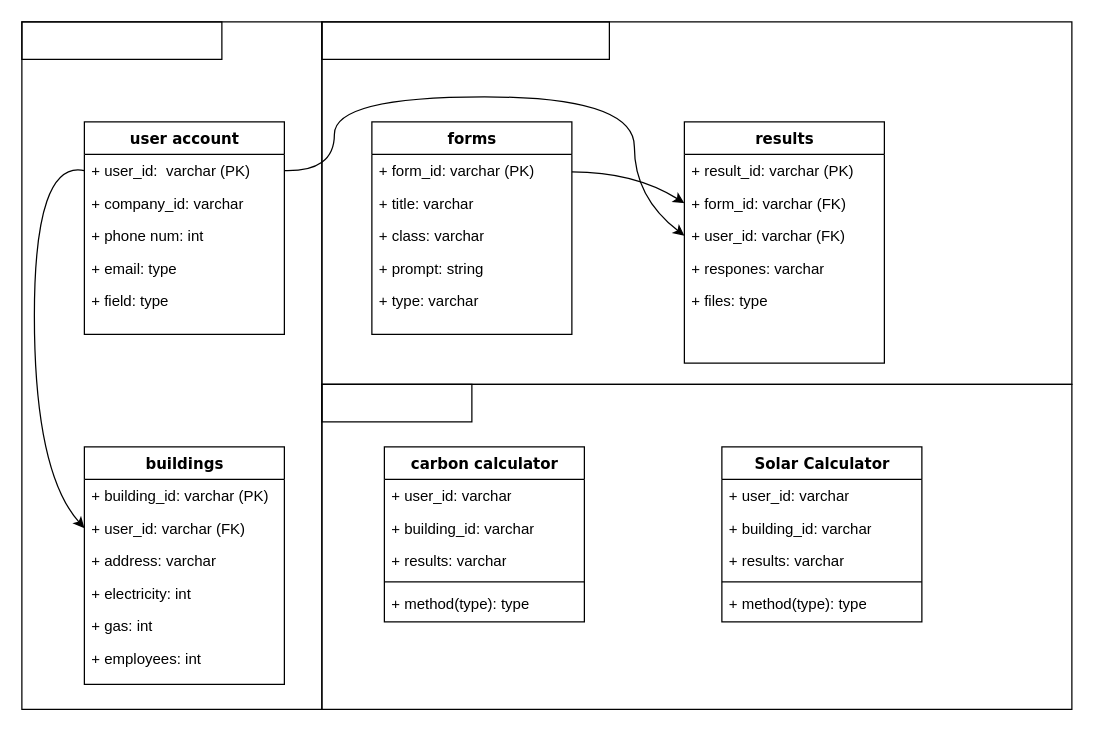
Some shapes in this 1094 by 731 pixel diagram are drawn without their labels. The shapes that lost their labels are listed below. From the top down, each one's centre as x and y in pixels, then its label:
At (121,40): "Client Profile".
At (465,40): "Form Manager".
At (396,402): "Apps".
